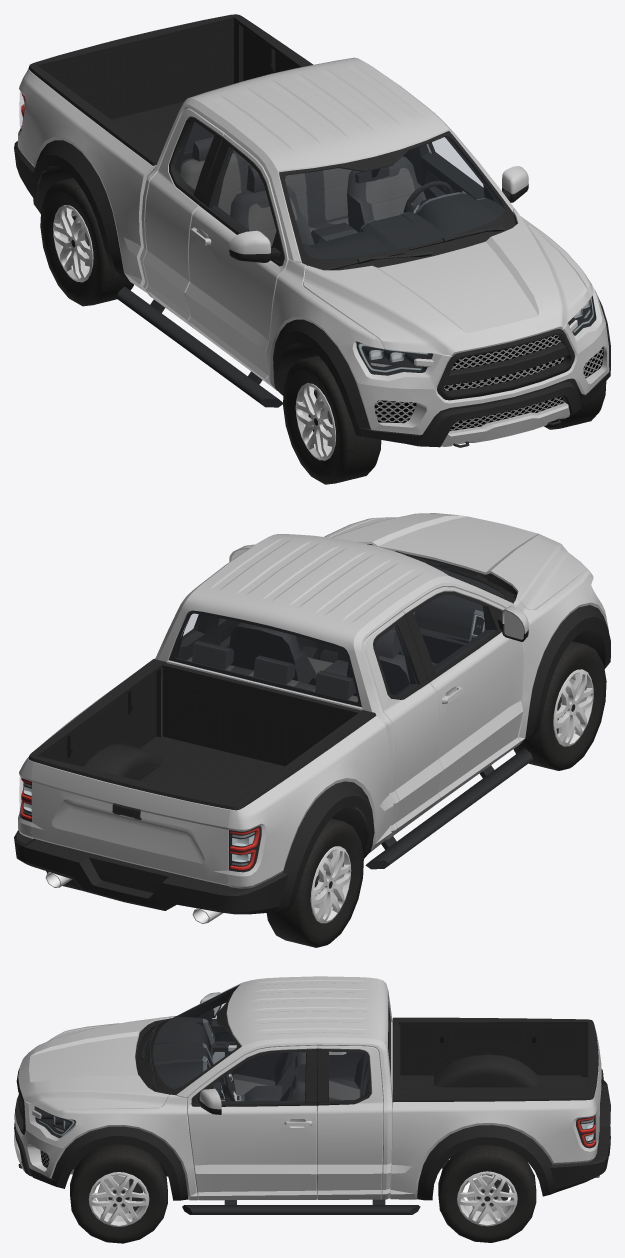
The model's file is RealisticCar04_HD_LOD2.FBX.
3 views of the same model, one above another, from view 1: azimuth 30°, elevation 25°; view 2: azimuth 150°, elevation 25°; view 3: azimuth 270°, elevation 25° (orthographic). The views are drawn at different scales.
Visible parts, largest first — view 1: Car04_Body_LOD2, Car04_Interior_LOD2, Car04_Door_Front_Right_LOD2, Car04_Door_Back_LOD2, Car04_Door_Rear_Right_LOD2, Wheel_Front_Right_LOD2, Wheel_Rear_Right_LOD2, Car04_Door_Front_Left_LOD2, Wheel_Front_Left_LOD2; view 2: Car04_Body_LOD2, Car04_Door_Back_LOD2, Car04_Door_Front_Right_LOD2, Car04_Interior_LOD2, Car04_Door_Rear_Right_LOD2, Wheel_Rear_Right_LOD2, Wheel_Front_Right_LOD2, Car04_Door_Rear_Left_LOD2, Car04_Door_Front_Left_LOD2; view 3: Car04_Body_LOD2, Car04_Door_Front_Left_LOD2, Car04_Door_Rear_Left_LOD2, Car04_Interior_LOD2, Wheel_Front_Left_LOD2, Wheel_Rear_Left_LOD2, Car04_Door_Front_Right_LOD2, Car04_Door_Back_LOD2, Car04_Door_Rear_Right_LOD2.
Part boxes in pixels (bbox=[...]): Car04_Body_LOD2: bbox=[14, 14, 610, 447]; Car04_Interior_LOD2: bbox=[175, 121, 505, 258]; Car04_Door_Front_Right_LOD2: bbox=[185, 133, 288, 385]; Car04_Door_Back_LOD2: bbox=[34, 15, 233, 119]; Car04_Door_Rear_Right_LOD2: bbox=[143, 108, 233, 328]; Wheel_Front_Right_LOD2: bbox=[283, 355, 381, 484]; Wheel_Rear_Right_LOD2: bbox=[40, 177, 133, 306]; Car04_Door_Front_Left_LOD2: bbox=[421, 142, 528, 216]; Wheel_Front_Left_LOD2: bbox=[544, 381, 606, 429]; Car04_Body_LOD2: bbox=[14, 513, 610, 923]; Car04_Door_Back_LOD2: bbox=[31, 756, 233, 885]; Car04_Door_Front_Right_LOD2: bbox=[403, 587, 528, 805]; Car04_Interior_LOD2: bbox=[174, 563, 504, 702]; Car04_Door_Rear_Right_LOD2: bbox=[364, 611, 443, 836]; Wheel_Rear_Right_LOD2: bbox=[266, 818, 363, 947]; Wheel_Front_Right_LOD2: bbox=[513, 641, 606, 770]; Car04_Door_Rear_Left_LOD2: bbox=[154, 614, 219, 660]; Car04_Door_Front_Left_LOD2: bbox=[217, 544, 254, 647]; Car04_Body_LOD2: bbox=[14, 976, 610, 1214]; Car04_Door_Front_Left_LOD2: bbox=[187, 1045, 317, 1200]; Car04_Door_Rear_Left_LOD2: bbox=[317, 1045, 383, 1199]; Car04_Interior_LOD2: bbox=[152, 987, 390, 1101]; Wheel_Front_Left_LOD2: bbox=[70, 1144, 167, 1243]; Wheel_Rear_Left_LOD2: bbox=[438, 1145, 536, 1242]; Car04_Door_Front_Right_LOD2: bbox=[198, 992, 282, 1080]; Car04_Door_Back_LOD2: bbox=[588, 1022, 603, 1151]; Car04_Door_Rear_Right_LOD2: bbox=[329, 1051, 363, 1081].
Bounding box in the file's own units: 2.55 × 5.87 × 2.09.
